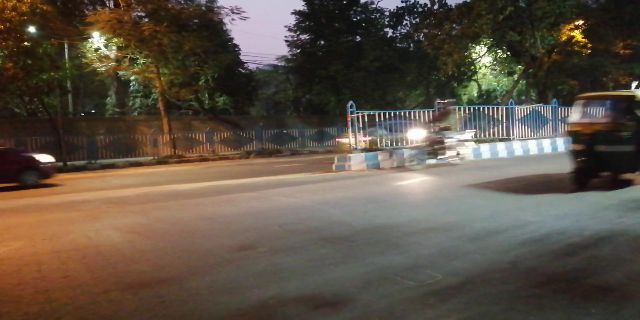Autorickshaw: (561, 87, 637, 184), (402, 103, 480, 173)
